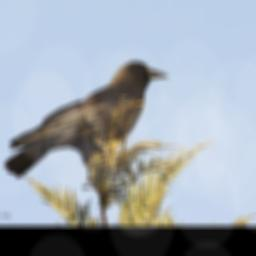Crow: (3, 57, 172, 183)
